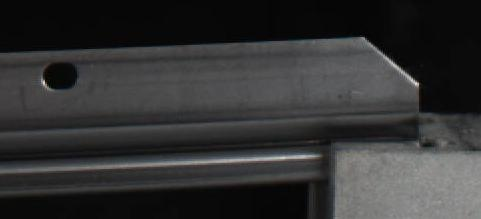cut: (293, 36, 423, 181)
holes: (40, 60, 80, 92)
